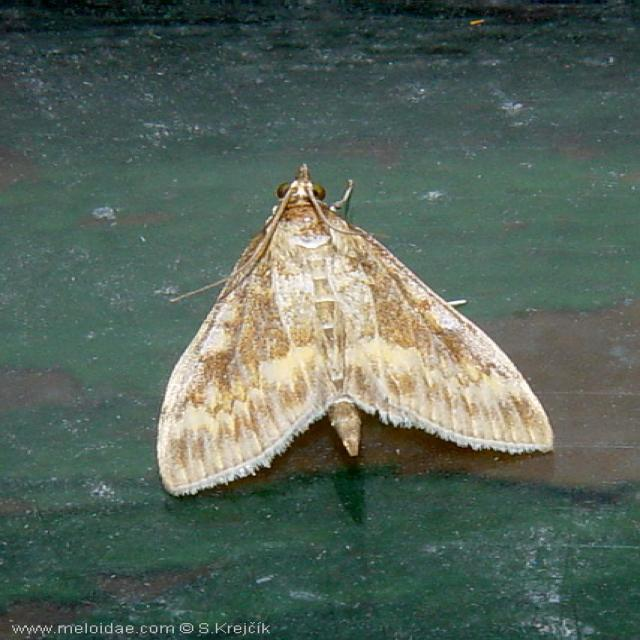cornborer-Adult-: (124, 154, 558, 503)
